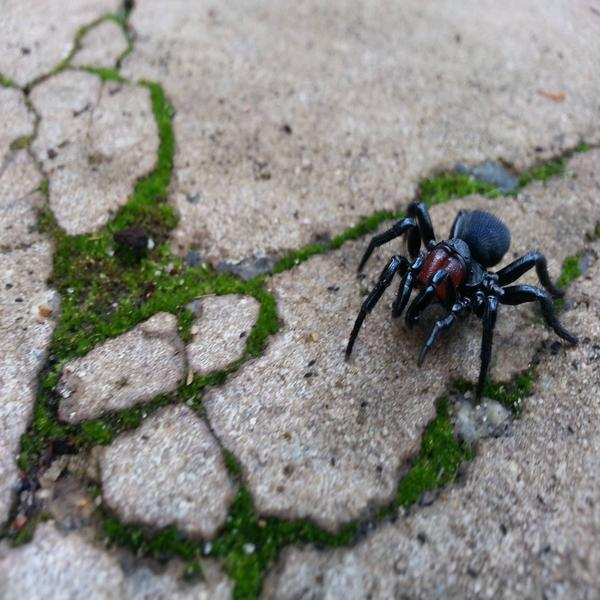Red Headed Mouse Spider: (345, 200, 579, 404)
